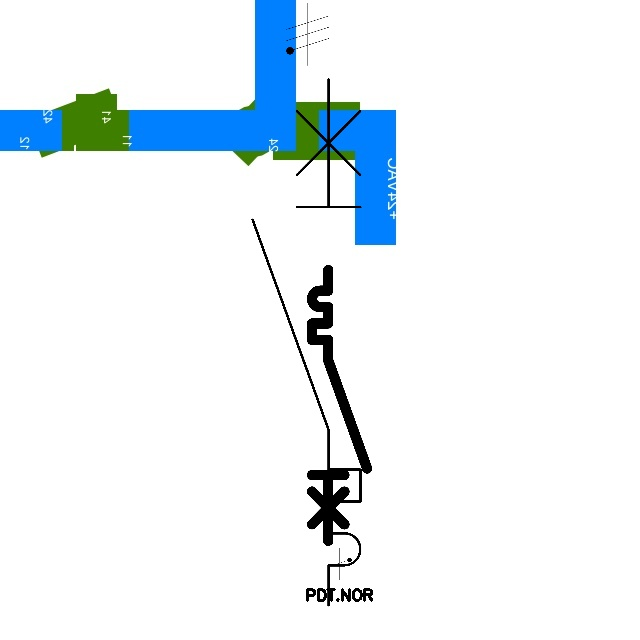interruptor_termomagnetico: (239, 65, 374, 618), (305, 263, 374, 547)
